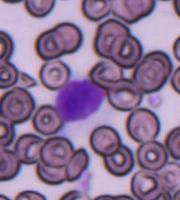M: (53, 76, 107, 125)
